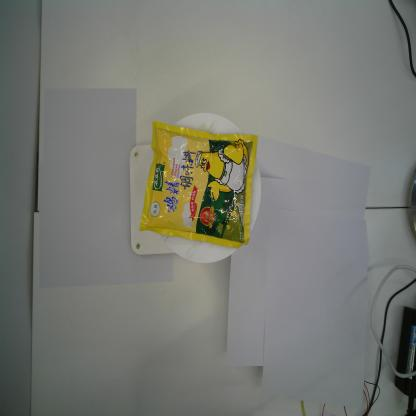Seasoner: (138, 119, 260, 249)
